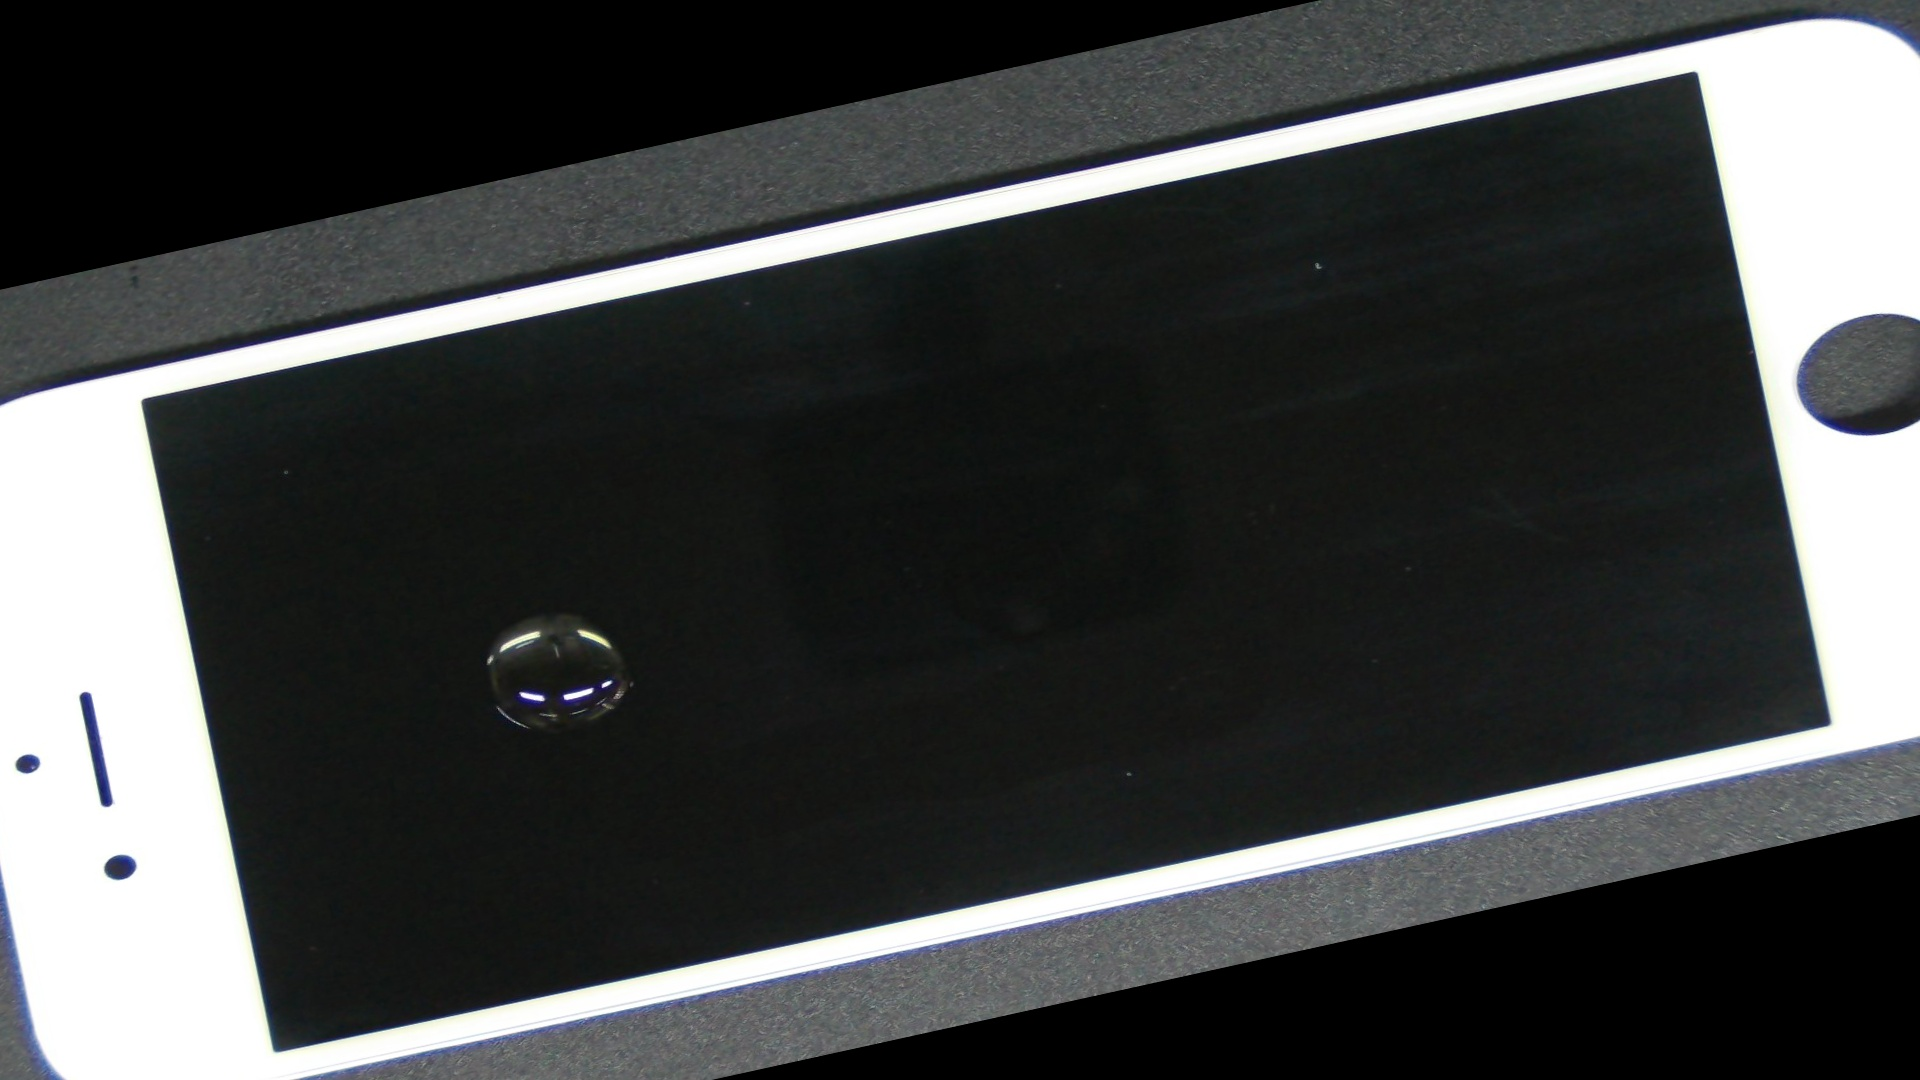oil: (160, 334, 905, 899)
